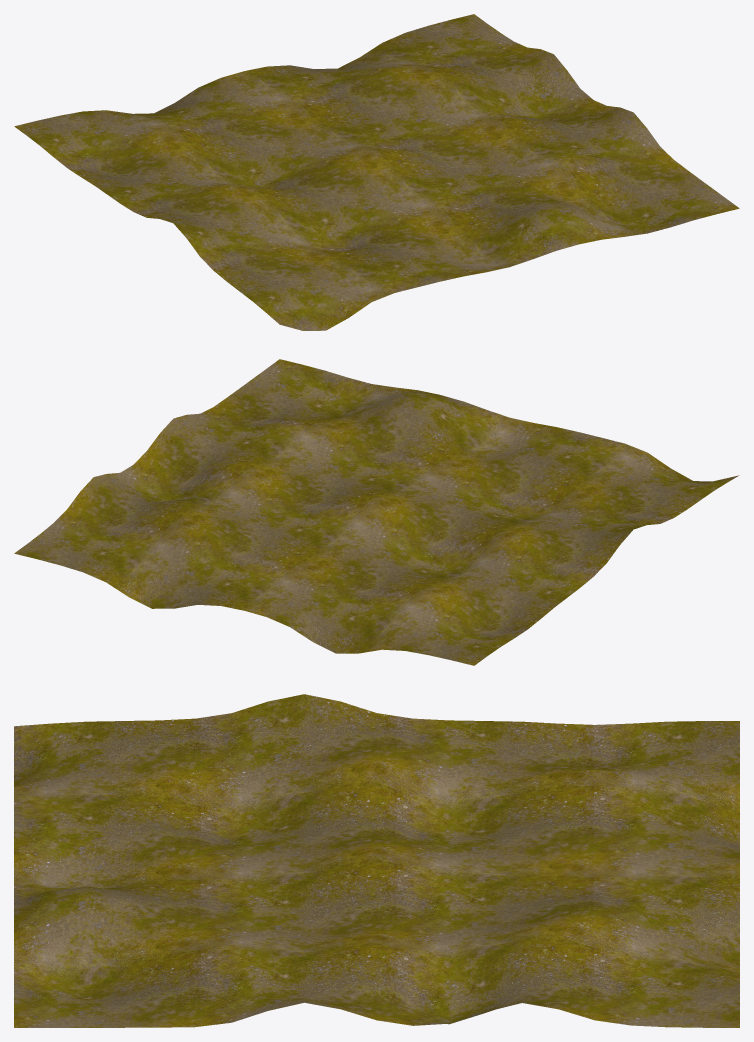
Rendered from Ground.fbx.
3 views of the same model, one above another, from view 1: azimuth 30°, elevation 25°; view 2: azimuth 150°, elevation 25°; view 3: azimuth 270°, elevation 25° (orthographic). The views are drawn at different scales.
Visible parts, largest first — view 1: pPlane1; view 2: pPlane1; view 3: pPlane1.
Part boxes in pixels (x1,y1,x2,y2): pPlane1: (14,14,739,330); pPlane1: (14,359,739,665); pPlane1: (14,694,739,1027).
Size of the model in its own units: 50 by 4.28 by 50.
Materials: 1 (1 with a texture image).
